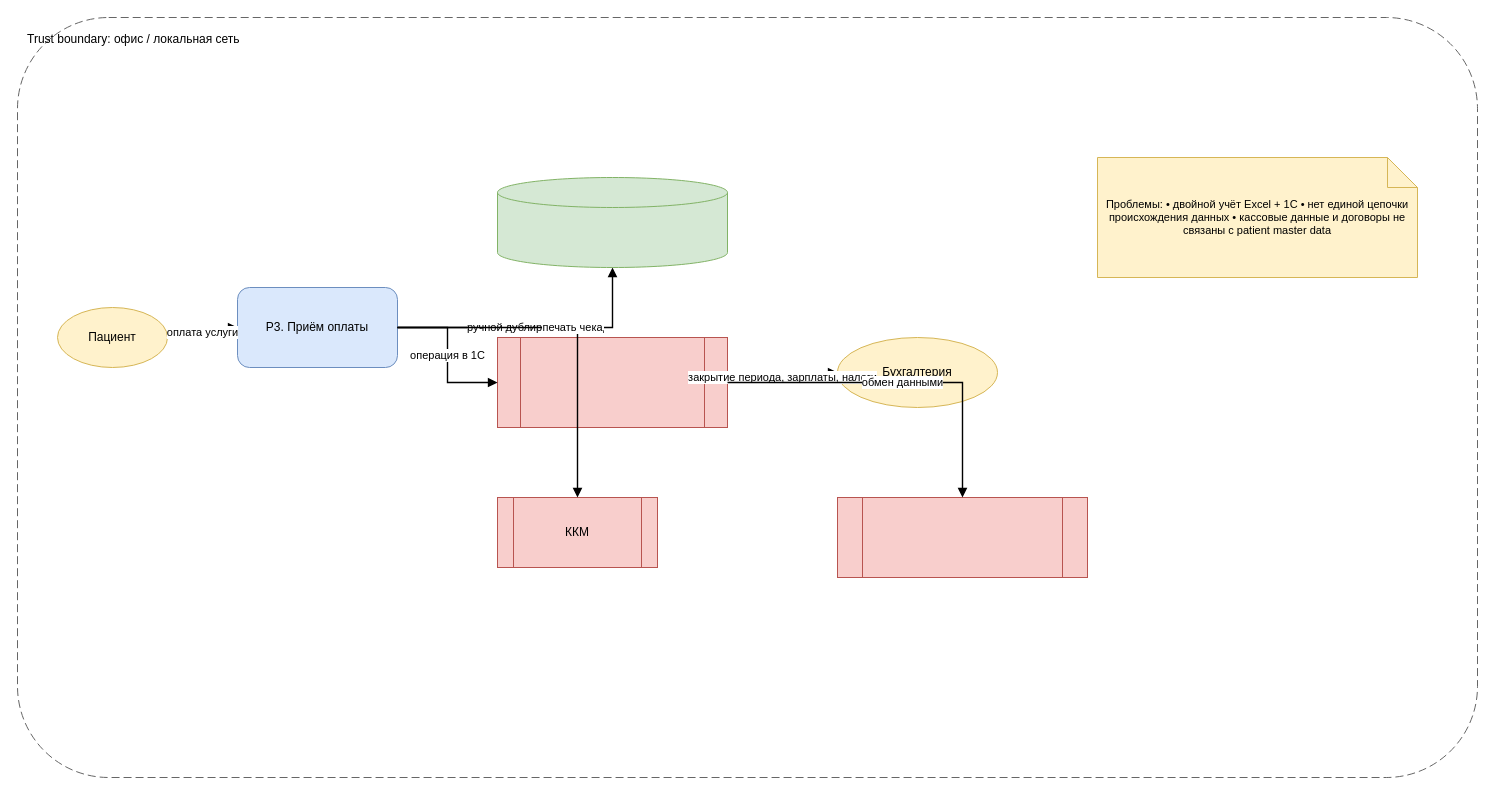
This 1495x795 diagram has some shape labels left out. Here are the shapes that lost their labels. From the top down, the centre of each, then its label:
At pixel 612 222: "D6. Excel учёт платежей".
At pixel 612 382: "1С: Бухгалтерия (файловый режим)".
At pixel 962 537: "1С: Торговля и склад (интеграция с 1С Бухгалтерия)".
